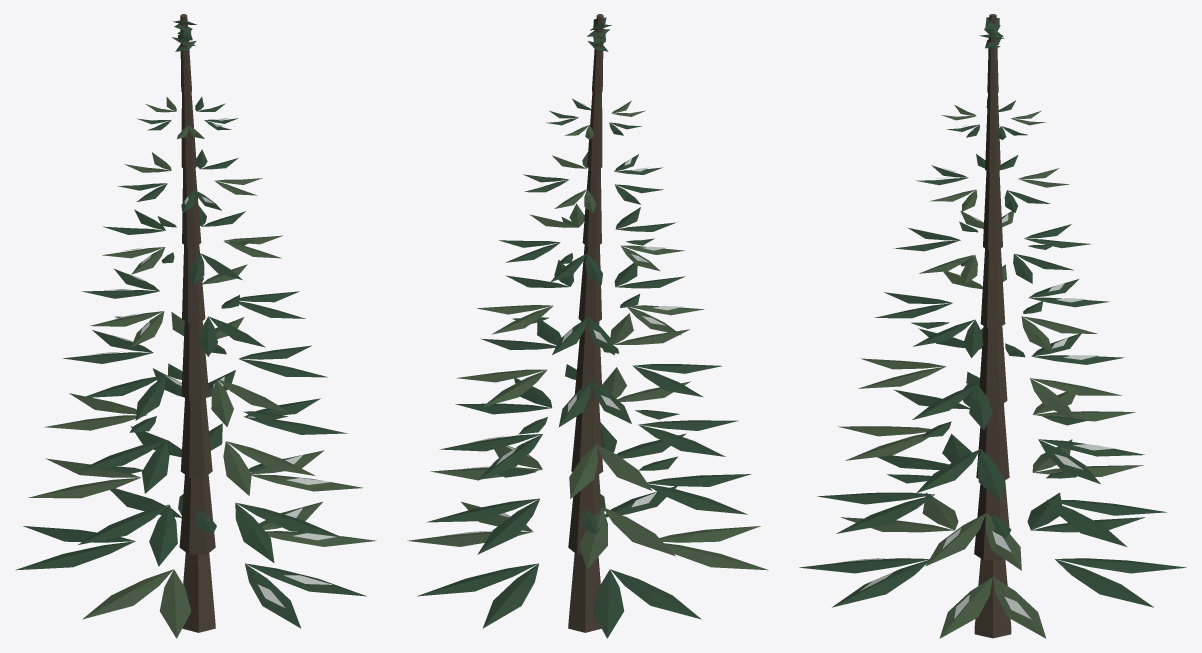
Rendered from spruce_young_lod.glb.
The picture shows the model from 3 angles, left to right: view 1: azimuth 30°, elevation 25°; view 2: azimuth 150°, elevation 25°; view 3: azimuth 270°, elevation 25°; orthographic projection.
Visible parts, largest first — view 1: spruce_young_lod; view 2: spruce_young_lod; view 3: spruce_young_lod.
Part boxes in pixels (x1,y1,x2,y2): spruce_young_lod: (15, 14, 376, 638); spruce_young_lod: (407, 14, 768, 638); spruce_young_lod: (799, 14, 1186, 638).
Size of the model in its own units: 1.4 by 2.71 by 1.57.
